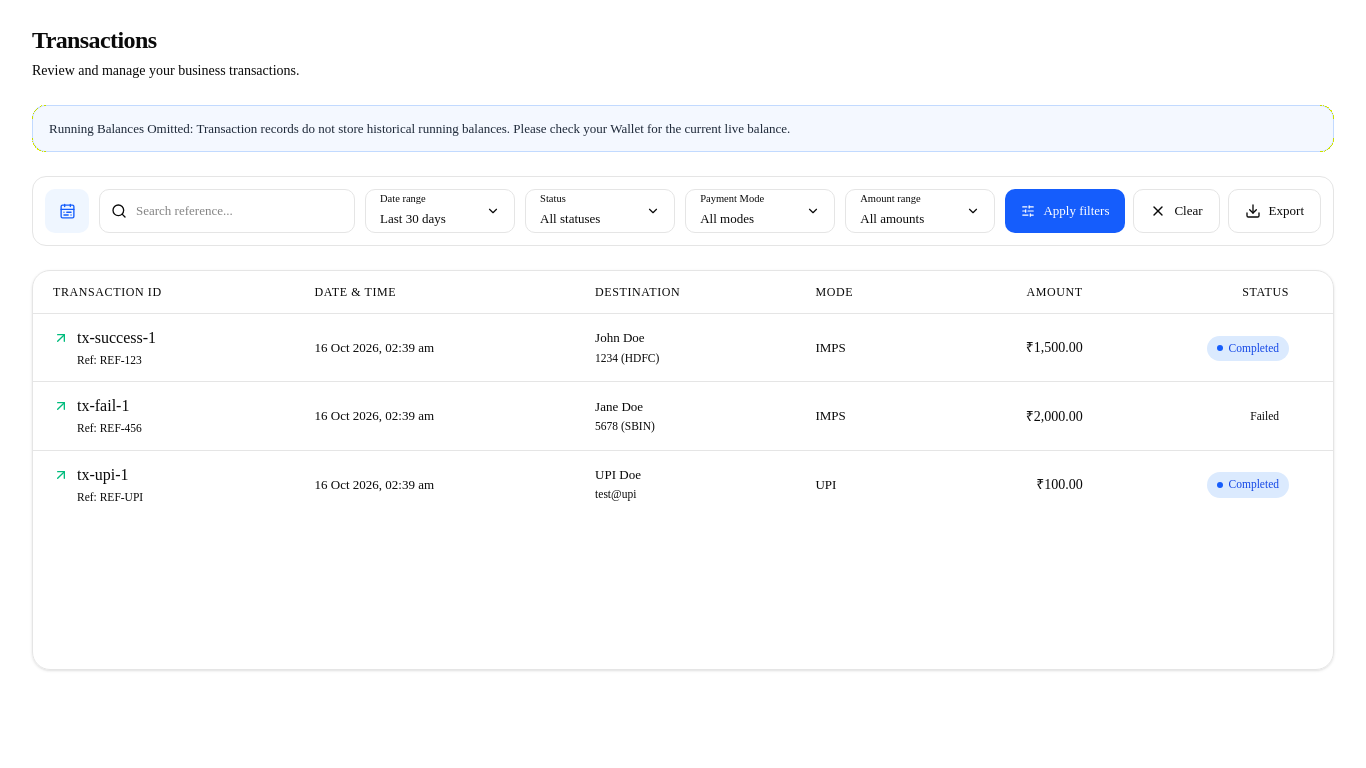
Test: TransactionsDashboard Detail Drawer UI › 11: Closing drawer works via button
The image size is (1366, 768).
Click the text "tx-success-1".
click(117, 338)  # box top-left (77, 326), bottom-right (156, 350)
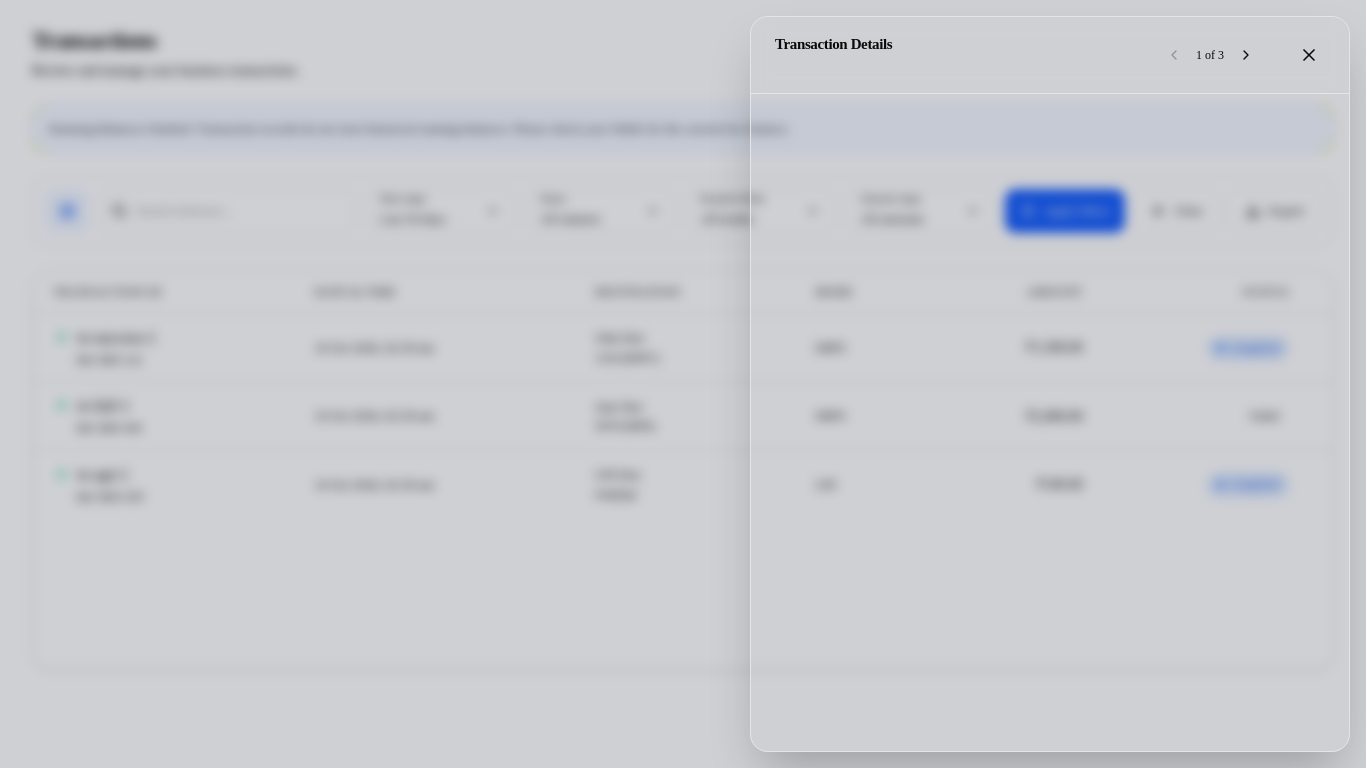
Expected: the dialog is shown, top-left (750, 16), bottom-right (1350, 752)
Click the button named "Close details".
click(1309, 55)  # box top-left (1293, 39), bottom-right (1325, 71)
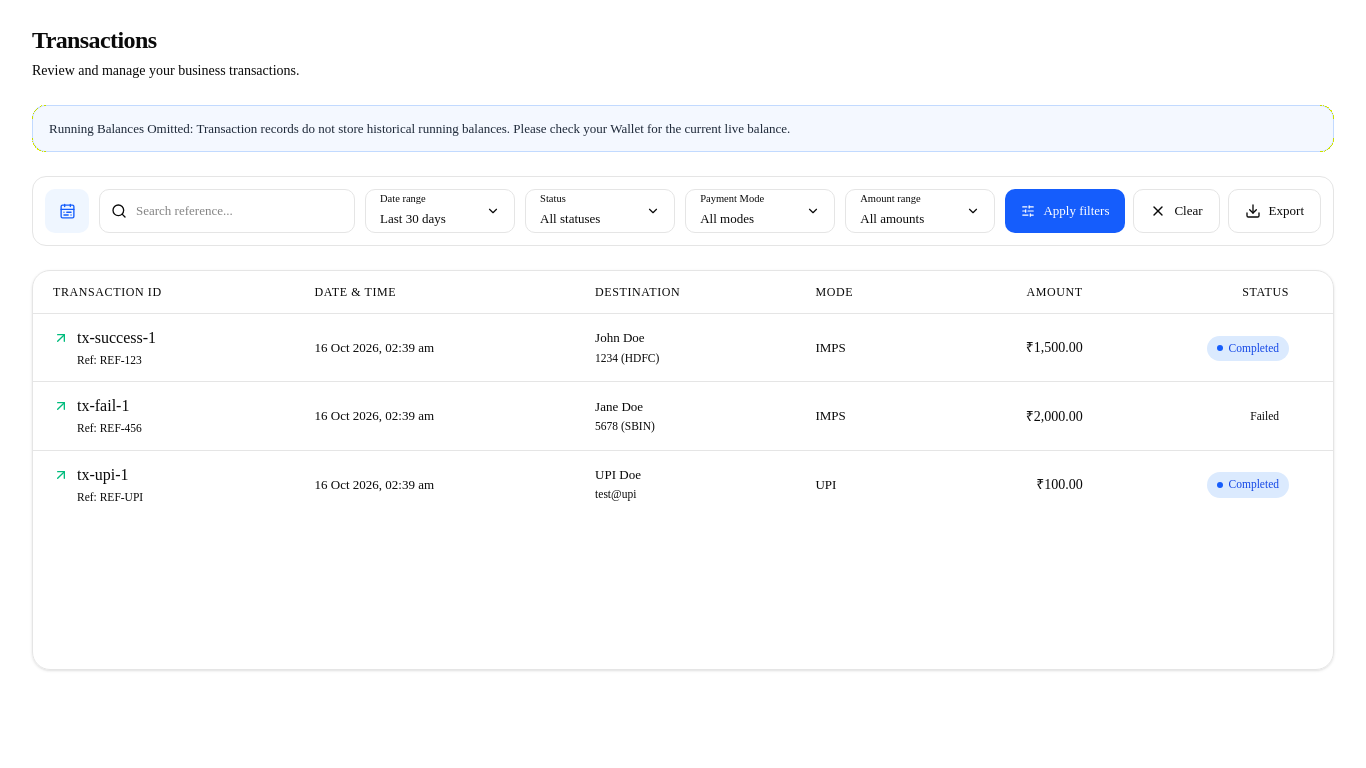
Expected: the dialog is gone
